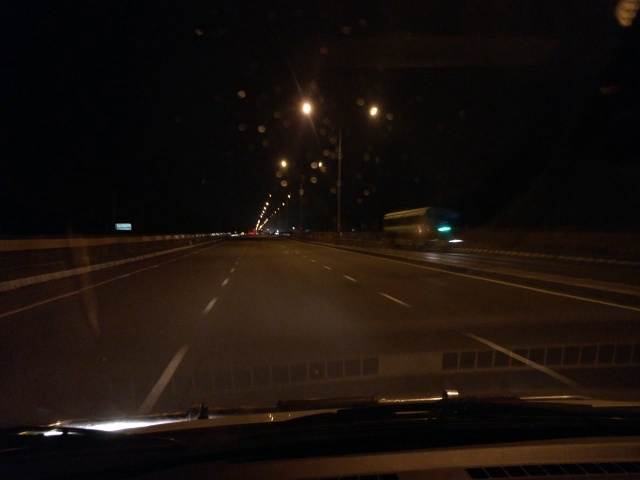bus: (372, 204, 468, 252)
